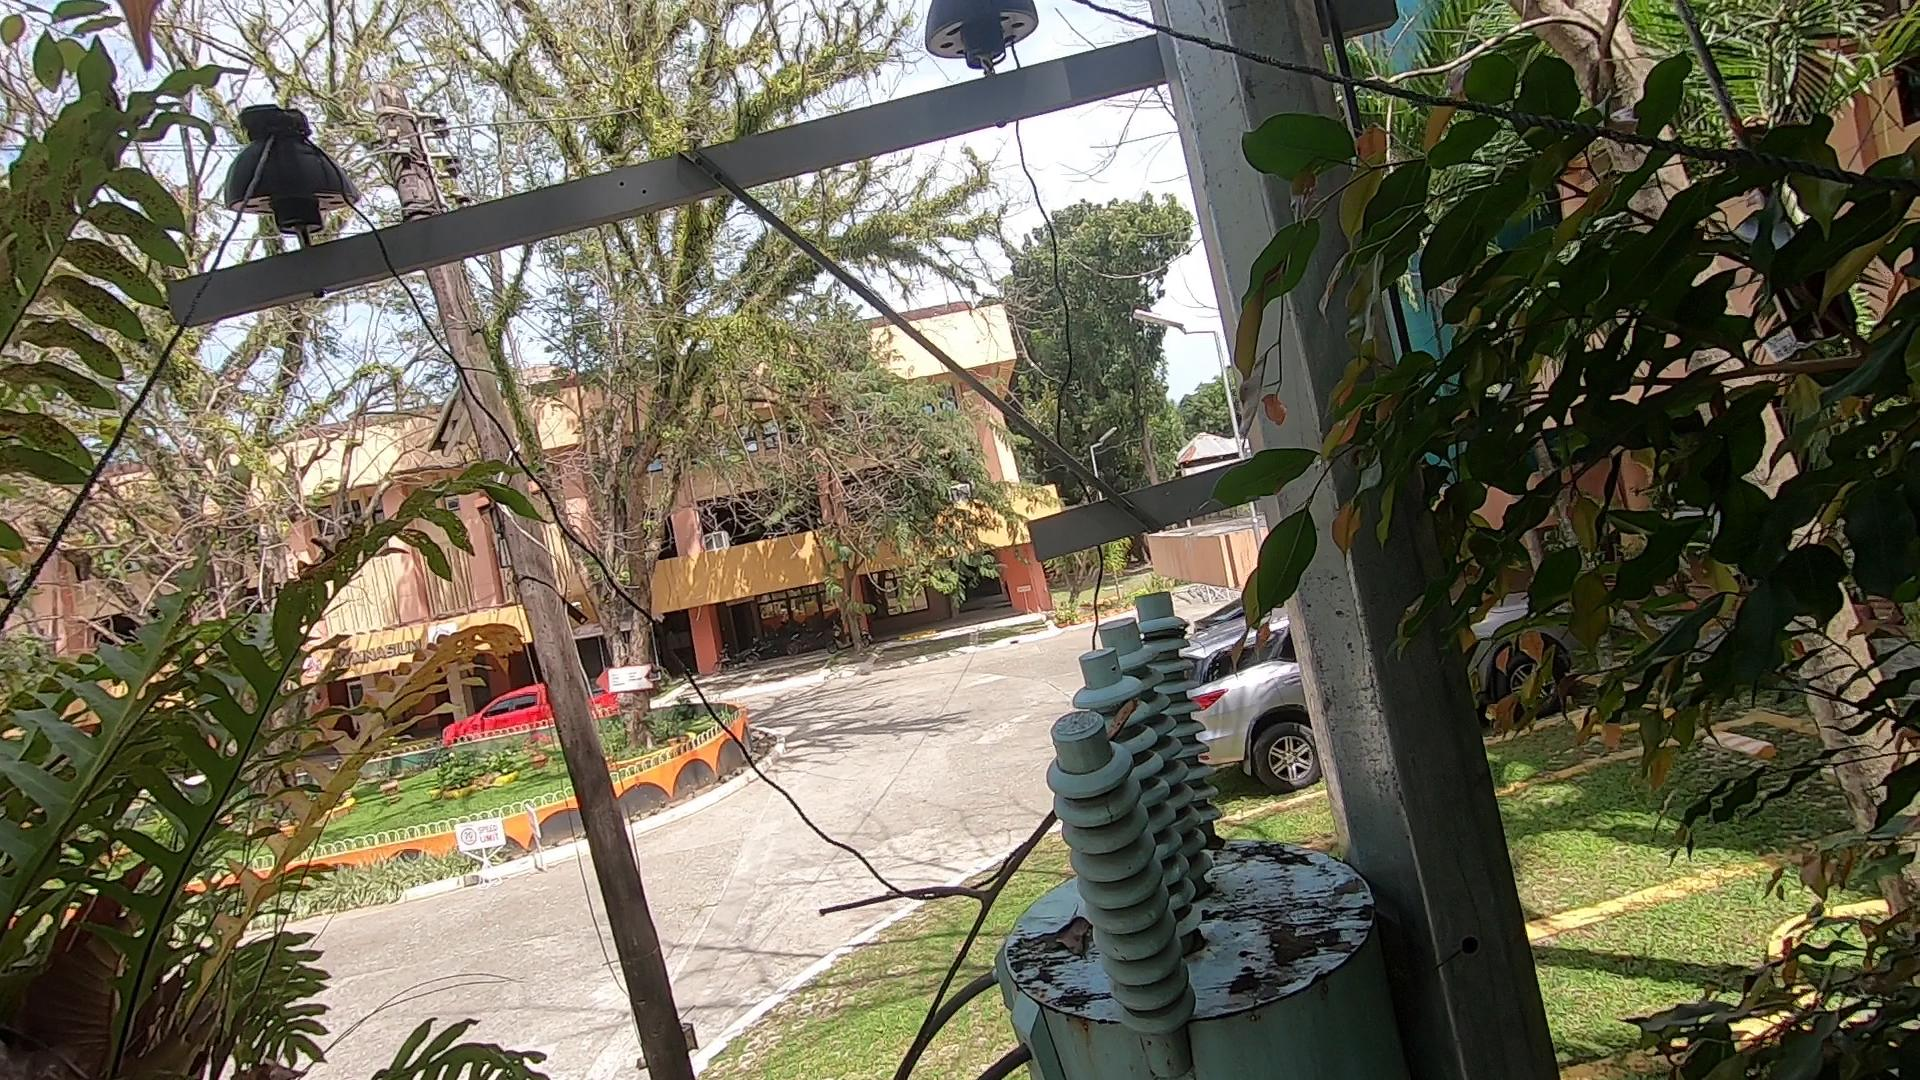leaf: (1048, 902, 1098, 968)
tree branch: (795, 698, 1146, 1080)
